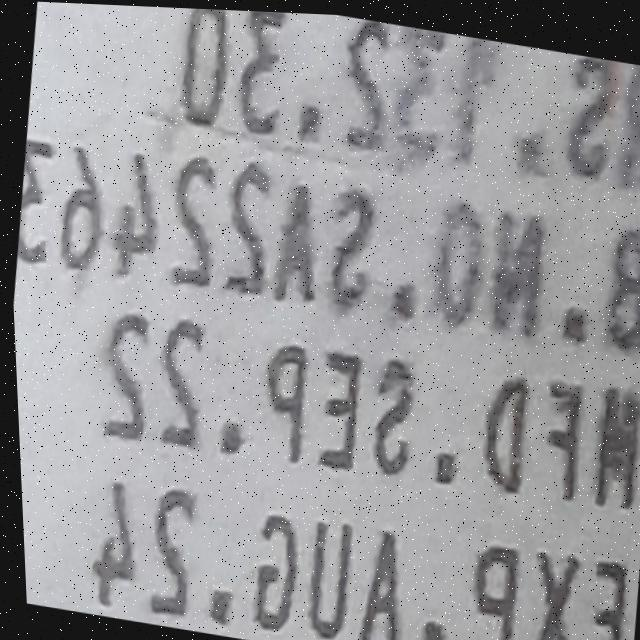sentence: (15, 127, 640, 345), (101, 311, 638, 503), (88, 483, 623, 640), (180, 7, 640, 181)
